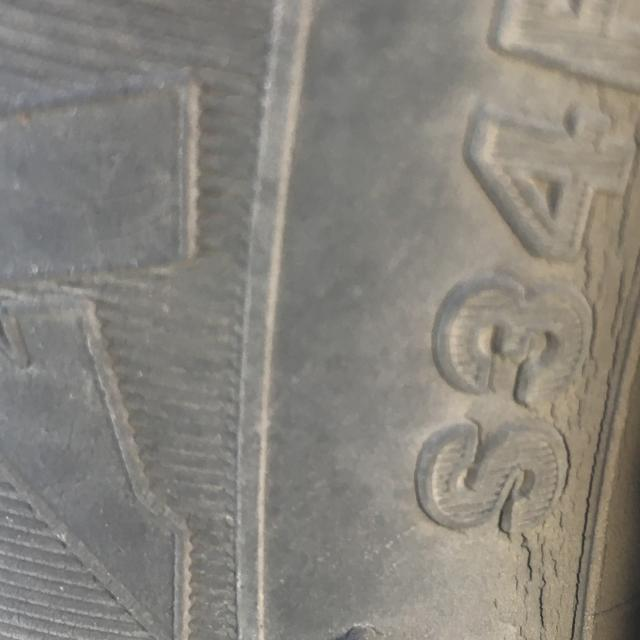Cracks: (502, 103, 640, 640)
